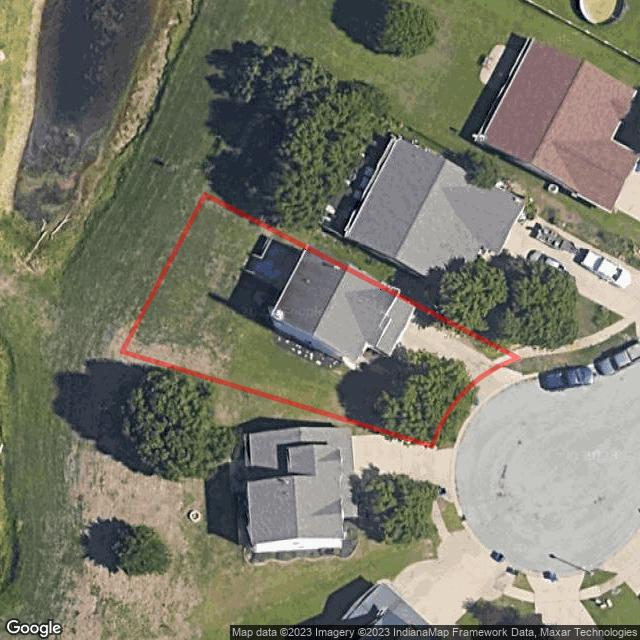Driveway: (398, 310, 495, 377)
Extra Driveway: (475, 367, 528, 404)
Extra Lawn: (438, 387, 479, 447), (507, 358, 540, 374)
House: (242, 239, 414, 367)
